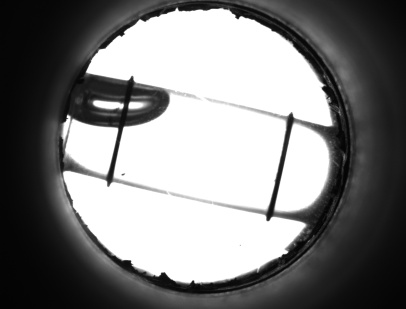line: (266, 140, 295, 203), (103, 135, 125, 169)
